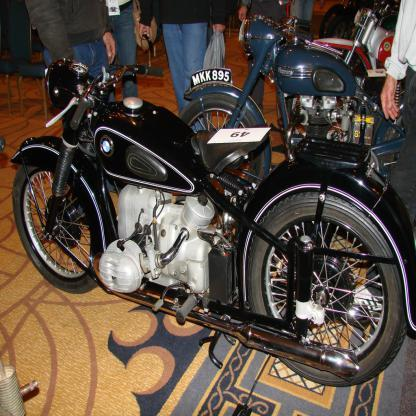motorcycle: (21, 14, 399, 385)
